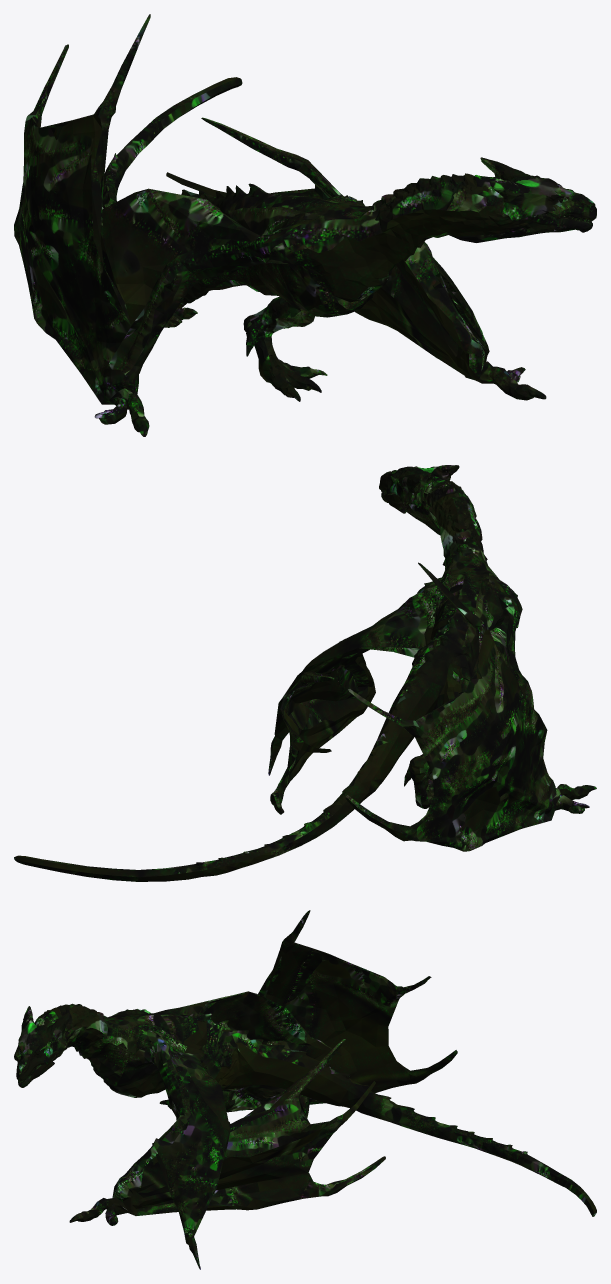
The model's file is frame_0002_uv.obj.
3 views of the same model, one above another, from view 1: azimuth 30°, elevation 25°; view 2: azimuth 150°, elevation 25°; view 3: azimuth 270°, elevation 25° (orthographic). The views are drawn at different scales.
Parts seen in each view (by area): view 1: pMesh1; view 2: pMesh1; view 3: pMesh1.
Boxes of the visible parts, box(x1,y1,x2,y2) form: pMesh1: box(14, 14, 596, 436); pMesh1: box(14, 465, 596, 881); pMesh1: box(14, 910, 596, 1269).
Bounding box in the file's own units: 1.26 × 1.08 × 2.11.
